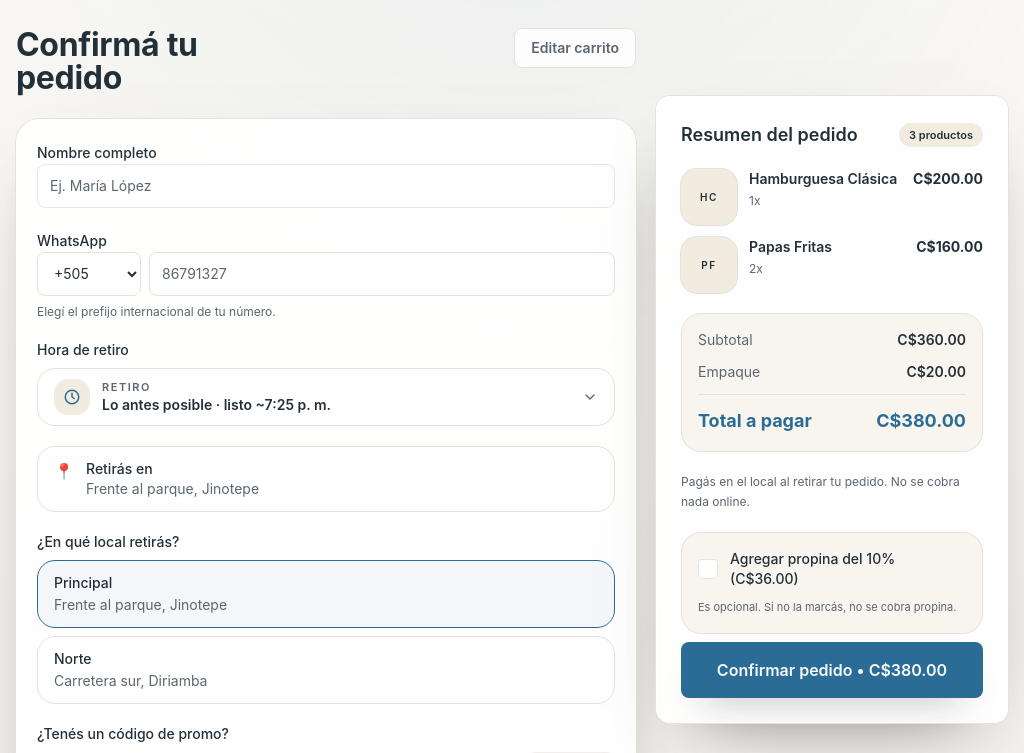
Test: checkout sin redundancias › el total se re-precia con los precios del local elegido (T8)
The image size is (1024, 753).
Check: the button "Confirmar pedido • C$380.00" is shown, box [681,642,983,698]
Step 1. Click the radio button labelled "Norte Carretera sur, Diriamba" → coordinates (73, 659), box [37,636,615,704]
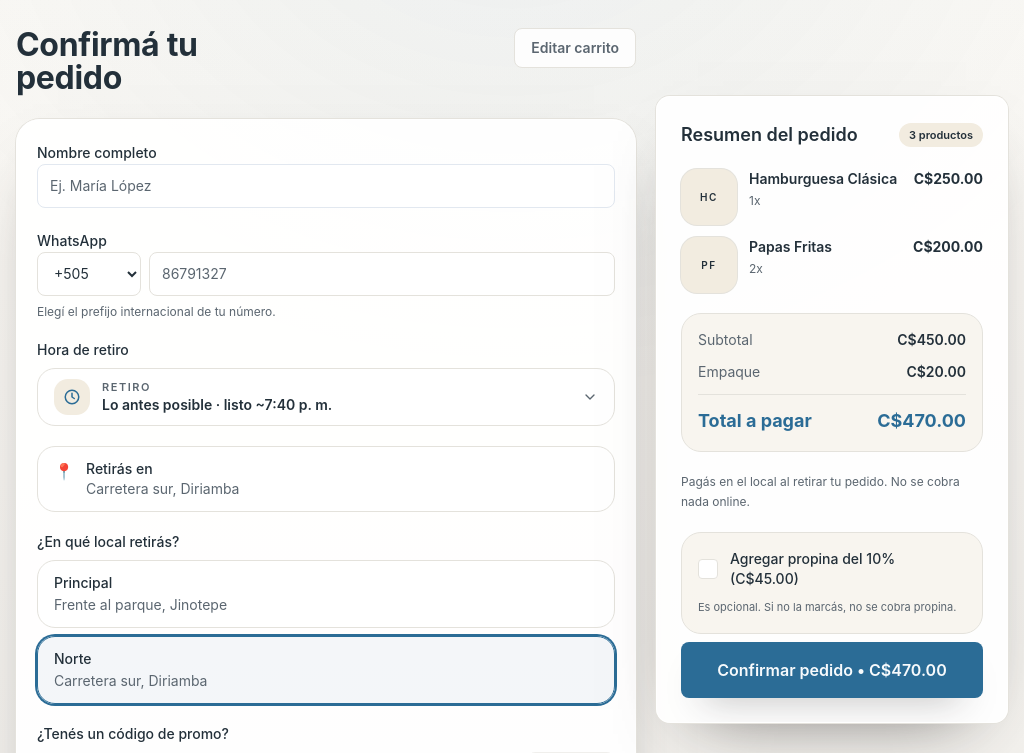
Check: the button "Confirmar pedido • C$470.00" is shown, box [681,642,983,698]
